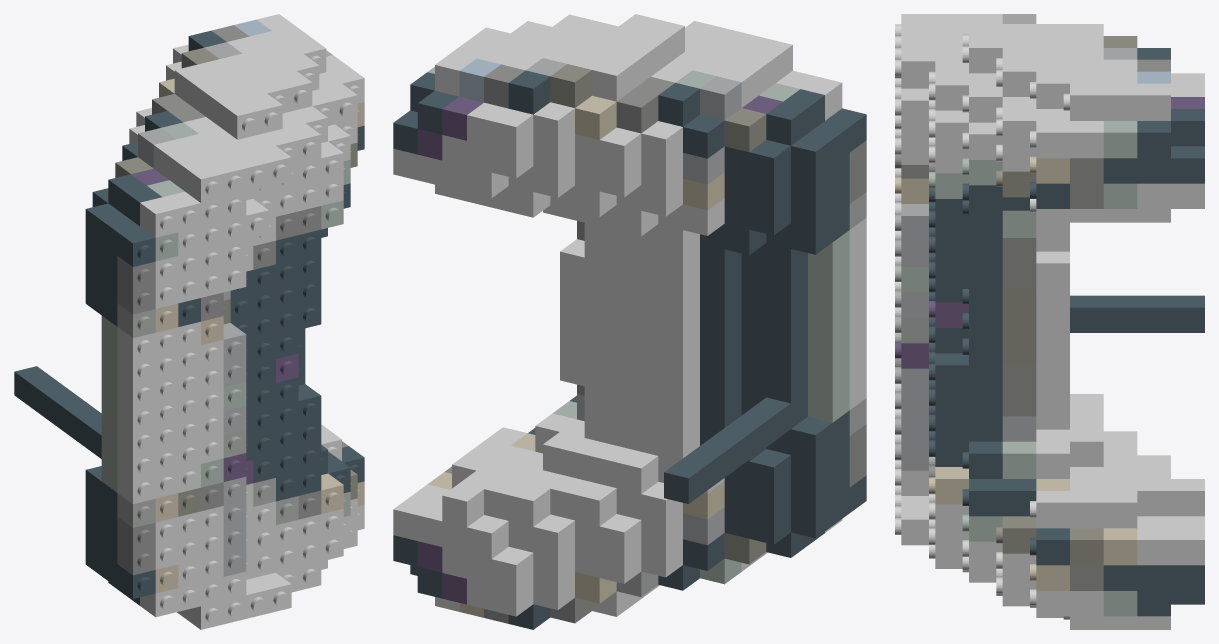
File: full.glb
The picture shows the model from 3 angles, left to right: view 1: azimuth 30°, elevation 25°; view 2: azimuth 150°, elevation 25°; view 3: azimuth 270°, elevation 25°; orthographic projection. The views are drawn at different scales.
Parts seen in each view (by area): view 1: world; view 2: world; view 3: world.
Boxes of the visible parts, x1=… form: world: x1=14, y1=14, x2=364, y2=629; world: x1=393, y1=14, x2=866, y2=629; world: x1=895, y1=14, x2=1204, y2=629.
Bounding box in the file's own units: 104 × 168 × 88.2.
